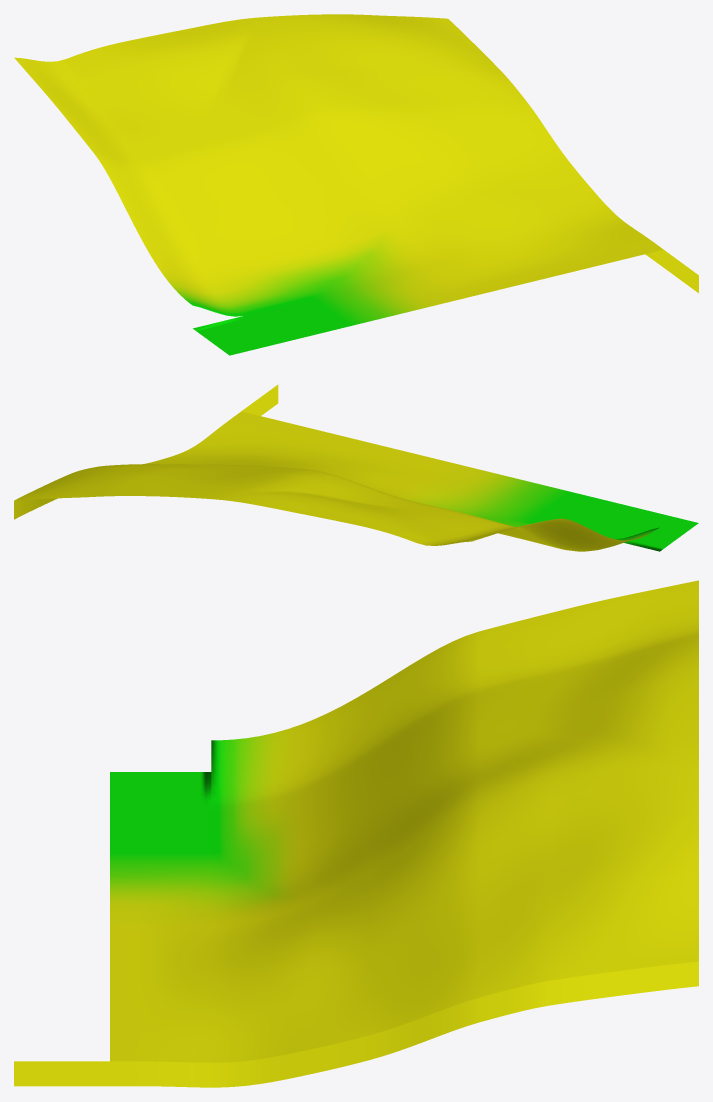
The model's file is terrain_3_2.glb.
The picture shows the model from 3 angles, top to bottom: view 1: azimuth 30°, elevation 25°; view 2: azimuth 150°, elevation 25°; view 3: azimuth 270°, elevation 25°; orthographic projection. The views are drawn at different scales.
Visible parts, largest first — view 1: terrain_3_2.0, terrain_3_2.1; view 2: terrain_3_2.0, terrain_3_2.1; view 3: terrain_3_2.0, terrain_3_2.1.
Part boxes in pixels (box(x1,y1,x2,y2)): terrain_3_2.0: box(14, 14, 663, 355); terrain_3_2.1: box(645, 249, 698, 293); terrain_3_2.0: box(14, 411, 698, 551); terrain_3_2.1: box(14, 384, 278, 519); terrain_3_2.0: box(110, 580, 698, 1062); terrain_3_2.1: box(14, 961, 698, 1087).
Size of the model in its own units: 50 by 17.54 by 50.
